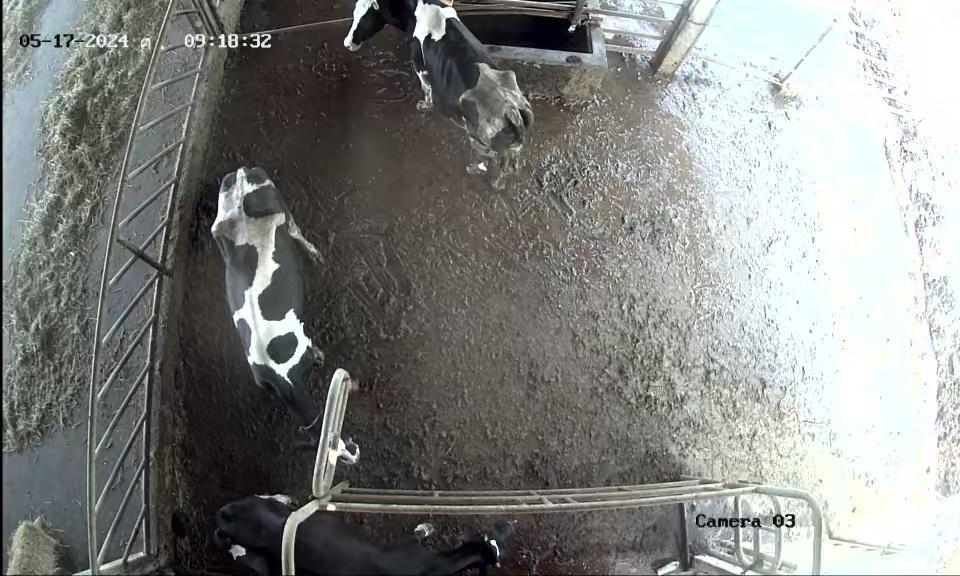stand: (209, 152, 370, 479), (345, 0, 535, 192), (209, 489, 531, 576)
